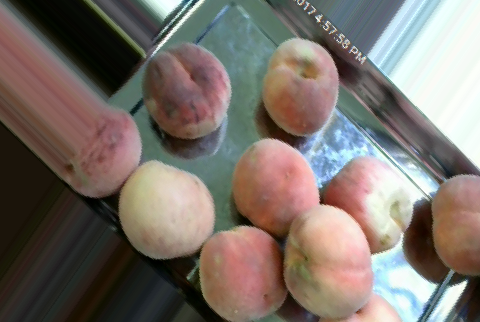Peach: (116, 161, 216, 260), (283, 207, 375, 314), (318, 155, 415, 254), (197, 225, 289, 320), (143, 41, 230, 140), (232, 138, 317, 237), (262, 37, 337, 137), (428, 170, 480, 280)
